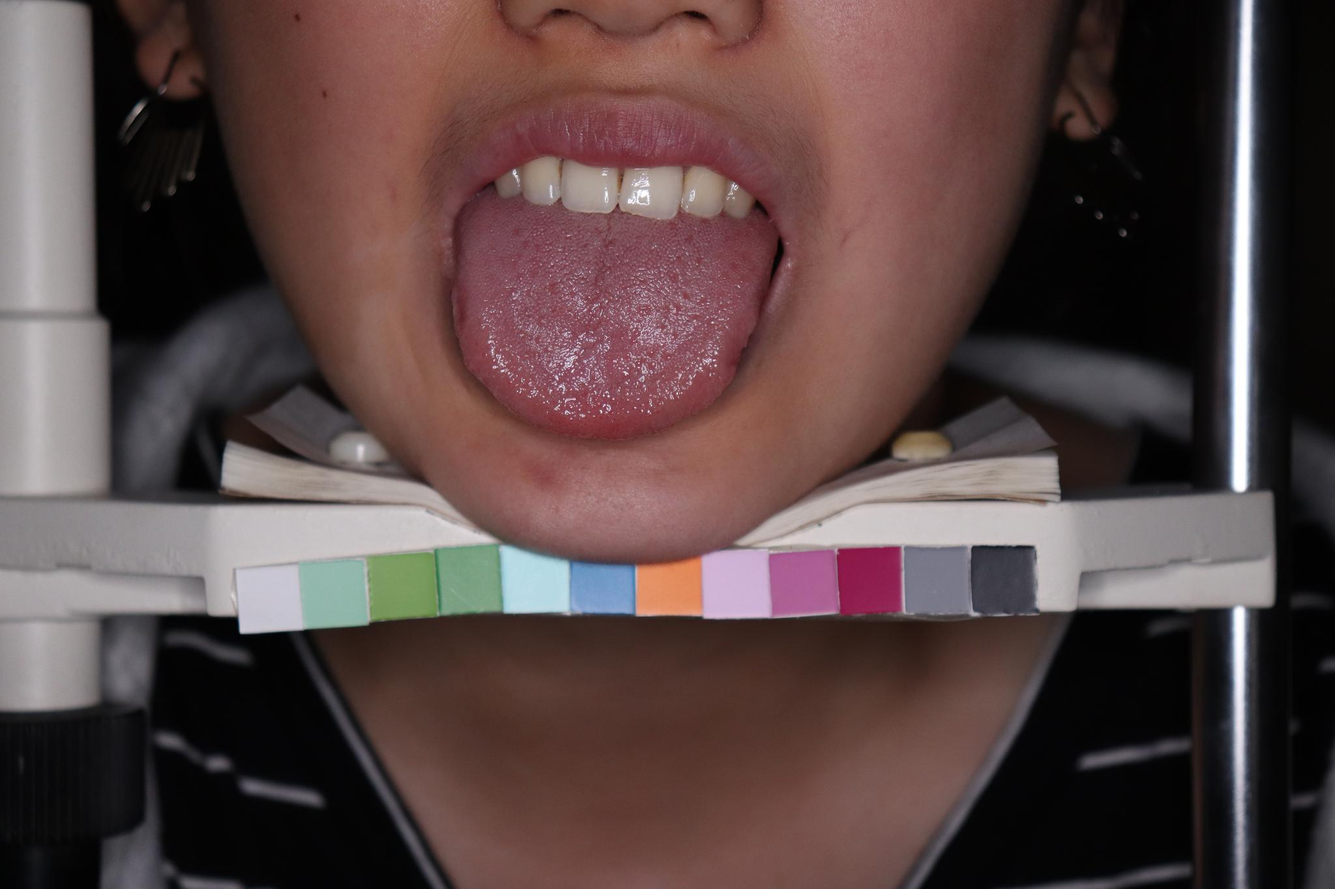baitaishe: (450, 184, 779, 440)
zishe: (449, 184, 778, 440)
